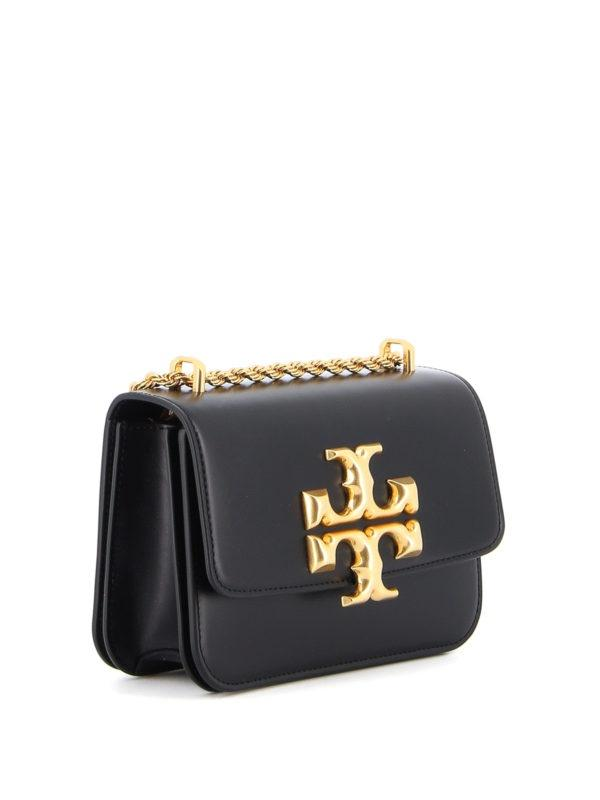TORY-BURCH: (301, 442, 423, 608)
